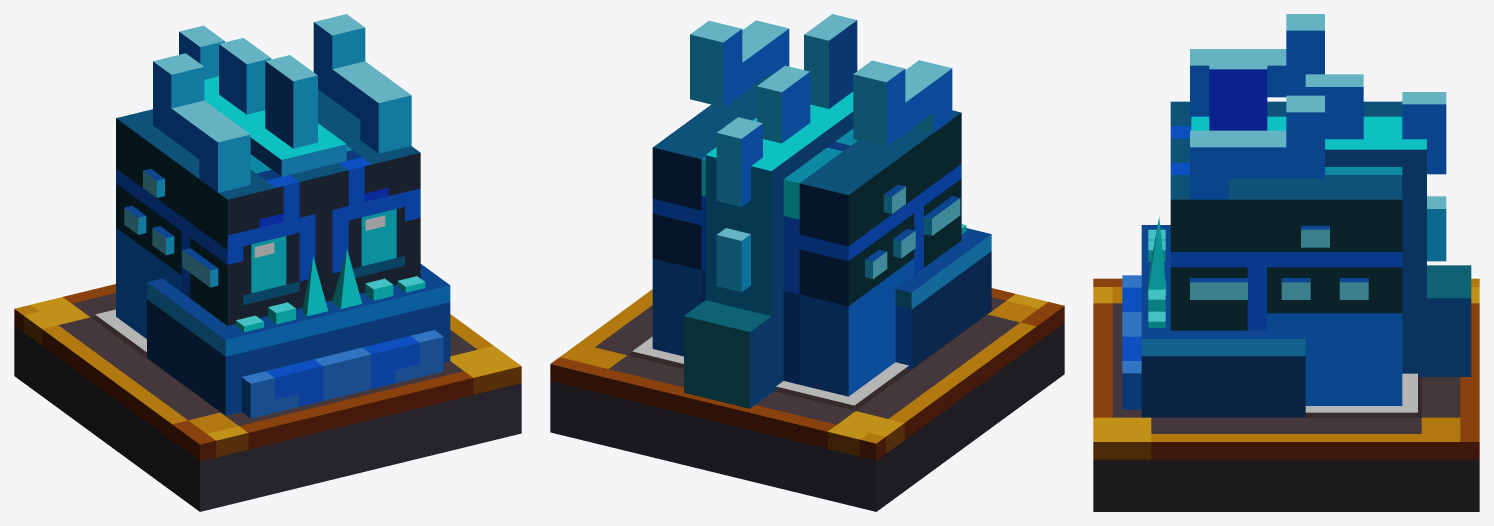
File: Tower_Dragon_v5.fbx
The picture shows the model from 3 angles, left to right: view 1: azimuth 30°, elevation 25°; view 2: azimuth 150°, elevation 25°; view 3: azimuth 270°, elevation 25°; orthographic projection. The views are drawn at different scales.
Parts seen in each view (by area): view 1: Body, Base, Jaw, Shadow; view 2: Body, Base, Jaw, Shadow; view 3: Body, Base, Jaw, Shadow.
Boxes of the visible parts, <box> form: Body: <box>116,14,420,338</box>; Base: <box>14,284,521,511</box>; Jaw: <box>147,249,450,418</box>; Shadow: <box>95,309,146,351</box>; Body: <box>652,14,961,408</box>; Base: <box>550,288,1064,511</box>; Jaw: <box>895,224,991,369</box>; Shadow: <box>632,336,908,405</box>; Body: <box>1170,14,1471,405</box>; Base: <box>1093,278,1479,511</box>; Jaw: <box>1122,217,1305,417</box>; Shadow: <box>1305,373,1417,412</box>.
Size of the model in its own units: 100 by 105 by 100.
